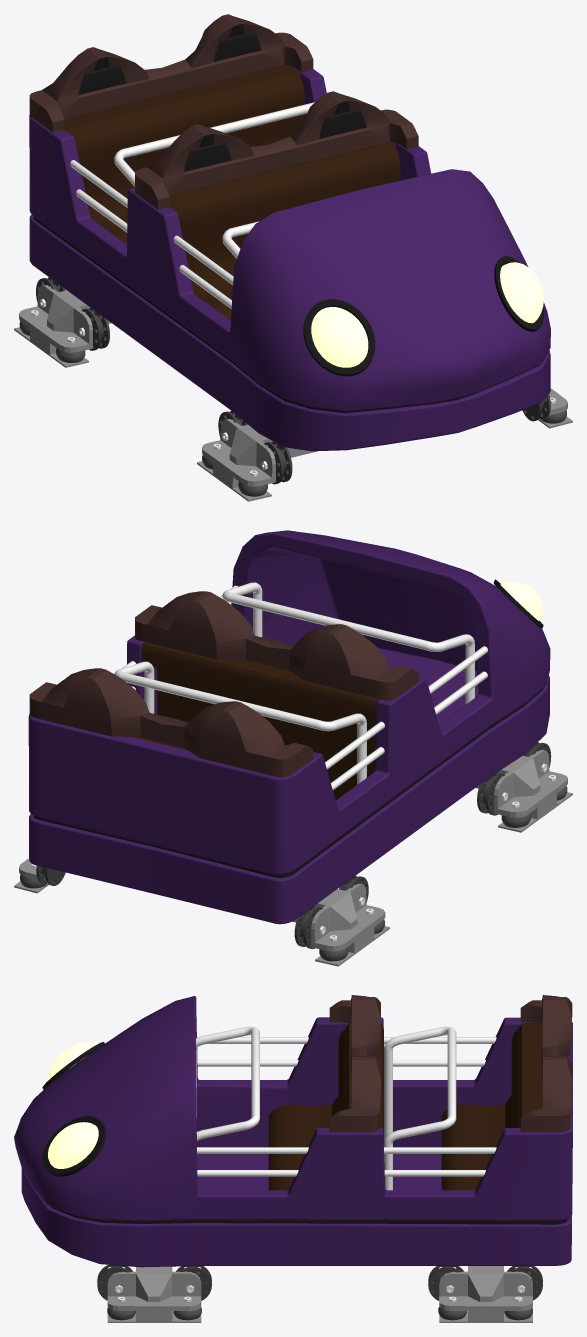
The model's file is trolleys_train (2).fbx.
3 renders of one model, top to bottom at view 1: azimuth 30°, elevation 25°; view 2: azimuth 150°, elevation 25°; view 3: azimuth 270°, elevation 25°, orthographic. The views are drawn at different scales.
Visible parts, largest first — view 1: carcas, chairs, Cube.020, suspension, headlights, handrail, wheels; view 2: carcas, Cube.020, chairs, handrail, suspension, wheels, headlights; view 3: carcas, chairs, handrail, Cube.020, suspension, headlights, wheels.
Part boxes in pixels (<box>): carcas: <box>29,66,550,451</box>; chairs: <box>64,64,400,319</box>; Cube.020: <box>29,14,418,209</box>; suspension: <box>14,285,572,501</box>; headlights: <box>303,256,544,376</box>; handrail: <box>70,102,314,308</box>; wheels: <box>19,277,566,496</box>; carcas: <box>28,530,550,924</box>; Cube.020: <box>29,591,418,777</box>; chairs: <box>134,642,379,800</box>; handrail: <box>114,582,487,790</box>; suspension: <box>14,750,572,966</box>; wheels: <box>20,742,567,961</box>; headlights: <box>493,579,543,628</box>; carcas: <box>14,996,572,1267</box>; chairs: <box>268,1023,542,1190</box>; handrail: <box>196,1026,496,1190</box>; Cube.020: <box>329,995,572,1132</box>; suspension: <box>107,1266,532,1322</box>; headlights: <box>42,1042,106,1176</box>; wheels: <box>97,1264,542,1320</box>.
Size of the model in its own units: 249 by 180 by 409.
